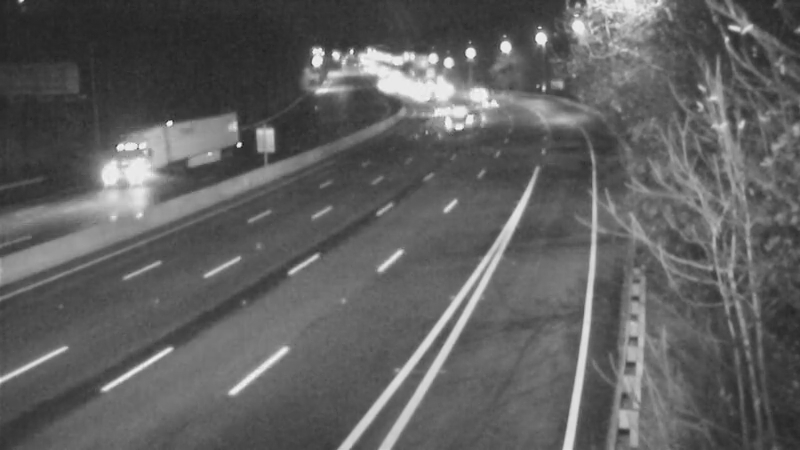vehicle: (104, 121, 184, 201), (417, 65, 467, 115), (448, 66, 498, 116), (466, 80, 516, 130), (411, 84, 461, 134), (434, 98, 484, 148)
